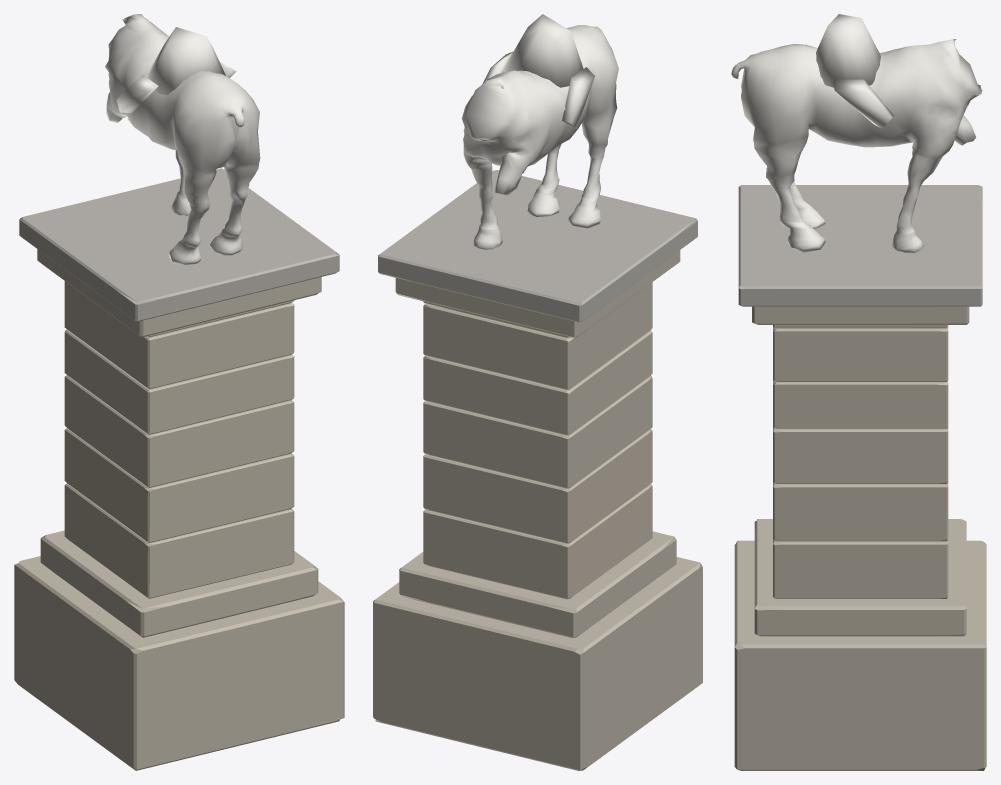
The model's file is marte.glb.
The picture shows the model from 3 angles, left to right: view 1: azimuth 30°, elevation 25°; view 2: azimuth 150°, elevation 25°; view 3: azimuth 270°, elevation 25°; orthographic projection. The views are drawn at different scales.
Visible parts, largest first — view 1: marte; view 2: marte; view 3: marte.
Part boxes in pixels (bbox=[...]): marte: bbox=[14, 14, 344, 770]; marte: bbox=[373, 14, 702, 770]; marte: bbox=[731, 14, 986, 770].
Size of the model in its own units: 1.9 by 5.82 by 1.93.
